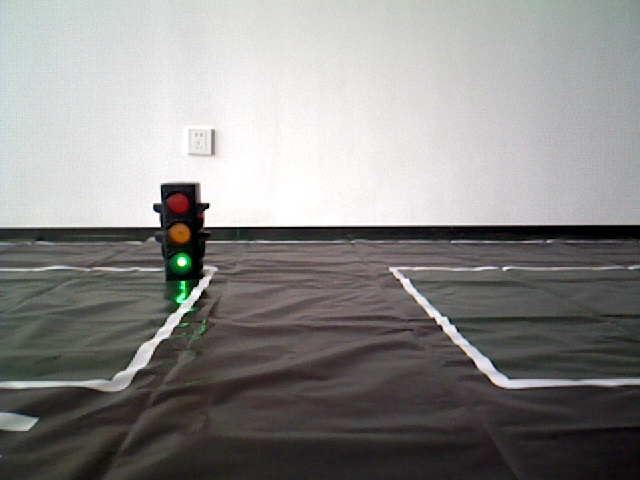green: (162, 189, 198, 269)
